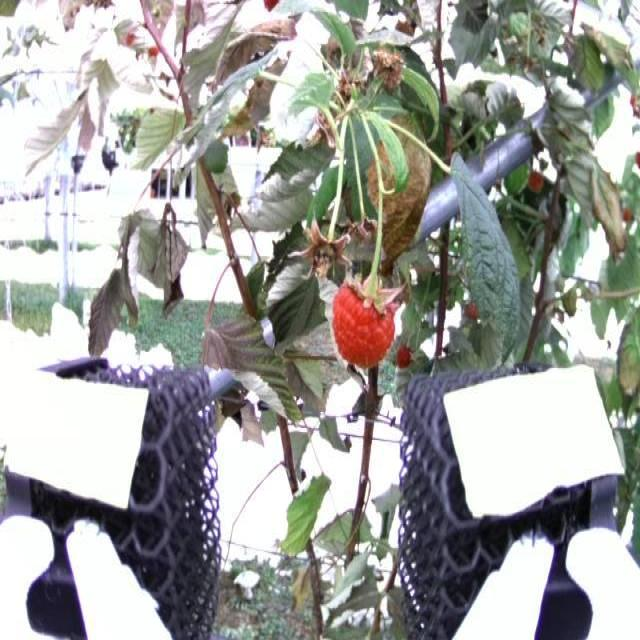Riped berries: (332, 272, 394, 366), (396, 336, 415, 371)
